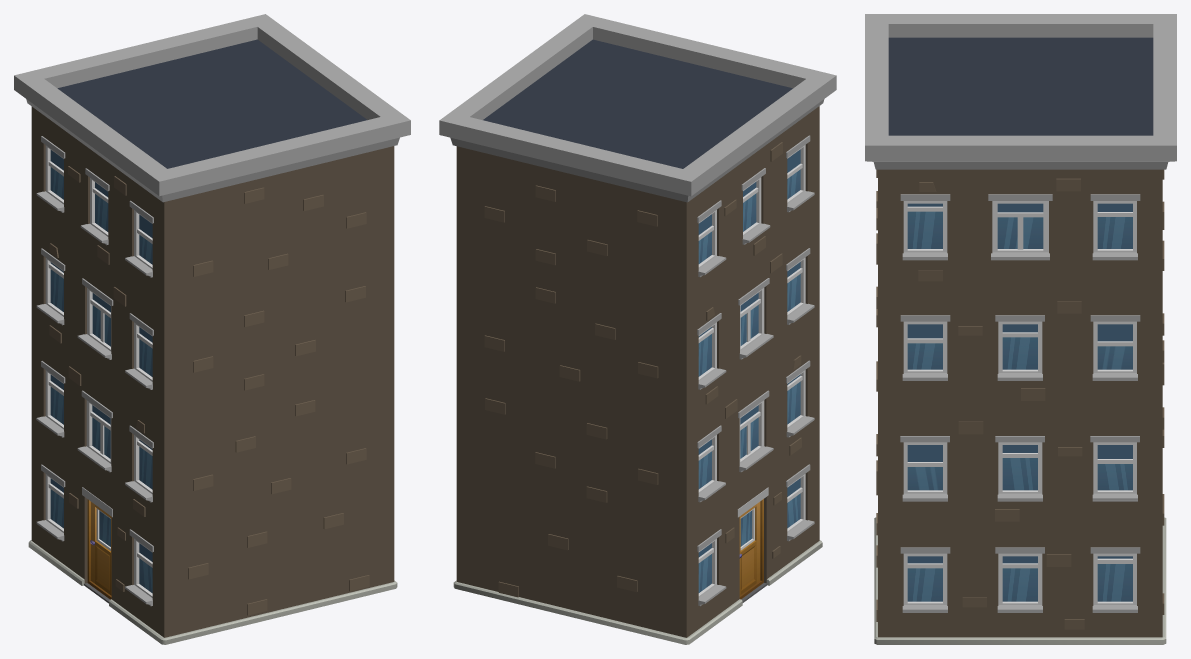
Rendered from Building_2_5_G.fbx.
3 views of the same model, side by side, from view 1: azimuth 30°, elevation 25°; view 2: azimuth 150°, elevation 25°; view 3: azimuth 270°, elevation 25° (orthographic). The views are drawn at different scales.
Parts seen in each view (by area): view 1: Building_2_5_G; view 2: Building_2_5_G; view 3: Building_2_5_G.
Boxes of the visible parts, box(x1,y1,x2,y2) form: Building_2_5_G: box(14, 14, 410, 644); Building_2_5_G: box(439, 14, 836, 644); Building_2_5_G: box(865, 14, 1176, 644).
Bounding box in the file's own units: 620 × 1105 × 620.
